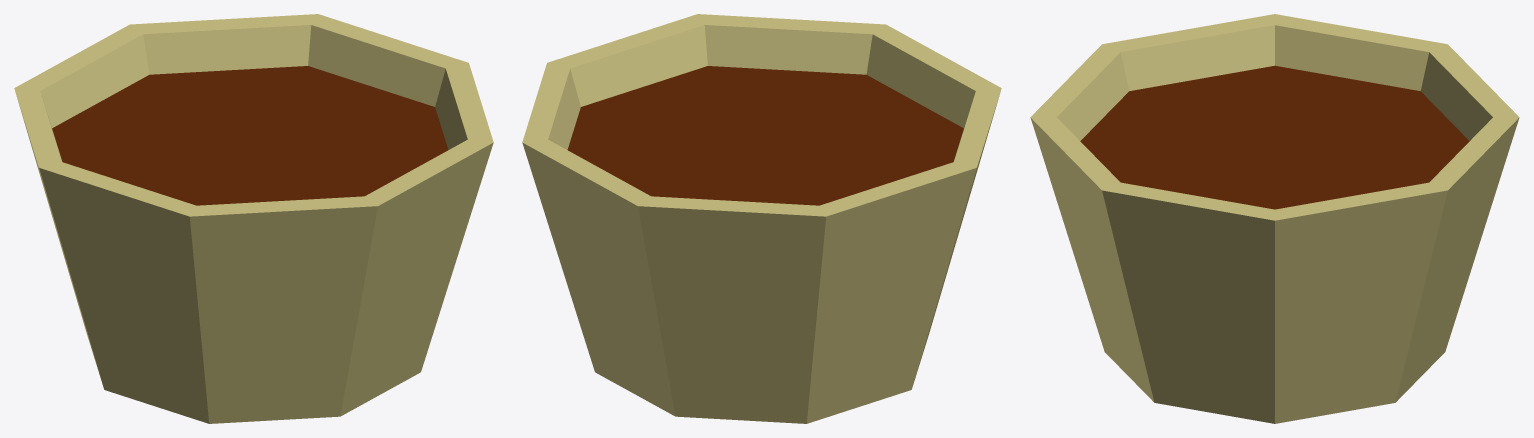
Rendered from planter.fbx.
The picture shows the model from 3 angles, left to right: view 1: azimuth 30°, elevation 25°; view 2: azimuth 150°, elevation 25°; view 3: azimuth 270°, elevation 25°; orthographic projection.
Parts seen in each view (by area): view 1: Planter; view 2: Planter; view 3: Planter.
Part boxes in pixels (x1,y1,x2,y2): Planter: (14,14,493,423); Planter: (522,14,1001,423); Planter: (1030,14,1519,423).
Bounding box in the file's own units: 287 × 152 × 287.
